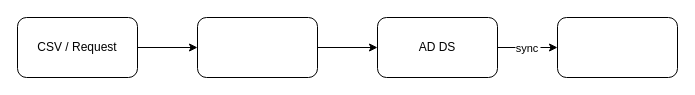
Image size: 695x95. Some labels were removed from this diagram. Here are the shapes that lost their labels. From the top down, the centre of each, then its label:
pixel 257 47: PowerShell
pixel 617 47: Entra ID
